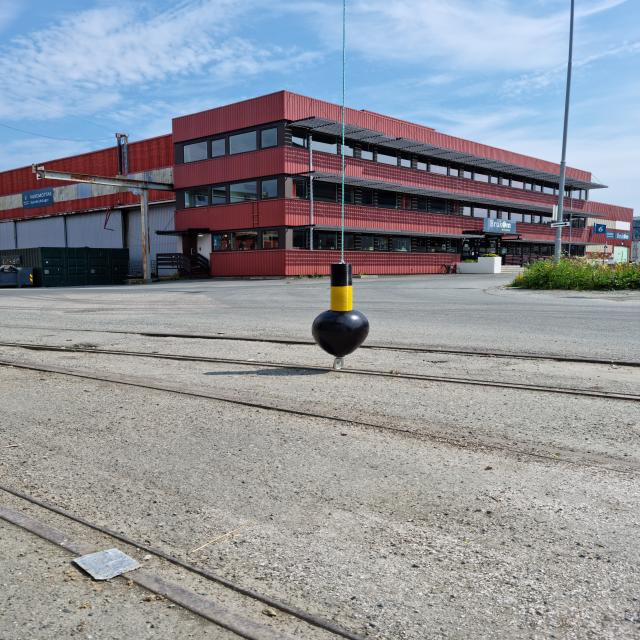east: (312, 264, 369, 356)
